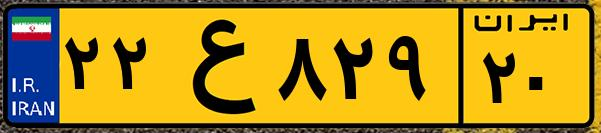0: (525, 38, 570, 115)
2: (330, 28, 385, 110), (57, 26, 110, 100), (475, 38, 525, 113), (110, 28, 158, 98)
8: (270, 28, 330, 110)
9: (385, 28, 445, 110)
ع: (158, 12, 270, 120)
